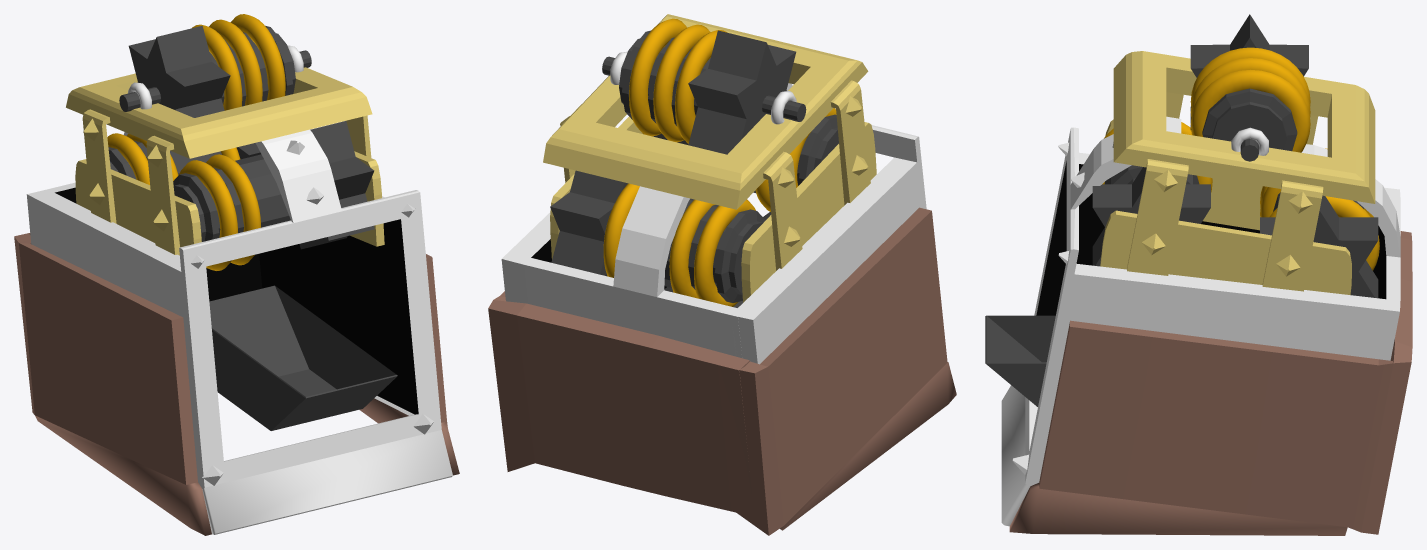
File: Diamond Mine Machine.fbx
The picture shows the model from 3 angles, left to right: view 1: azimuth 30°, elevation 25°; view 2: azimuth 150°, elevation 25°; view 3: azimuth 270°, elevation 25°; orthographic projection. The views are drawn at different scales.
Visible parts, largest first — view 1: Cheses, wood, Troly, gear1, gear2, belt1, Belt2, belt3, gear3; view 2: wood, Cheses, gear1, gear3, belt1, belt3, gear2, Belt2; view 3: Cheses, wood, gear1, belt1, Troly, gear3, gear2, belt3.
Boxes of the visible parts, left/top/right/bottom form: Cheses: left=26, top=45, right=452, bottom=534; wood: left=14, top=233, right=459, bottom=535; Troly: left=209, top=285, right=397, bottom=430; gear1: left=119, top=25, right=311, bottom=117; gear2: left=173, top=121, right=374, bottom=249; belt1: left=192, top=14, right=285, bottom=110; Belt2: left=179, top=154, right=260, bottom=270; belt3: left=107, top=133, right=240, bottom=184; gear3: left=108, top=141, right=260, bottom=179; wood: left=488, top=207, right=956, bottom=535; Cheses: left=501, top=14, right=926, bottom=364; gear1: left=602, top=30, right=806, bottom=154; gear3: left=550, top=170, right=765, bottom=302; belt1: left=629, top=18, right=727, bottom=143; belt3: left=603, top=183, right=755, bottom=306; gear2: left=653, top=114, right=838, bottom=192; Belt2: left=755, top=108, right=836, bottom=211; Cheses: left=1001, top=51, right=1400, bottom=526; wood: left=1009, top=231, right=1412, bottom=535; gear1: left=1190, top=14, right=1308, bottom=161; belt1: left=1190, top=47, right=1310, bottom=152; Troly: left=985, top=315, right=1055, bottom=406; gear3: left=1260, top=192, right=1378, bottom=298; gear2: left=1092, top=165, right=1210, bottom=266; belt3: left=1260, top=148, right=1379, bottom=270.
Bounding box in the file's own units: 380 × 560 × 507.
